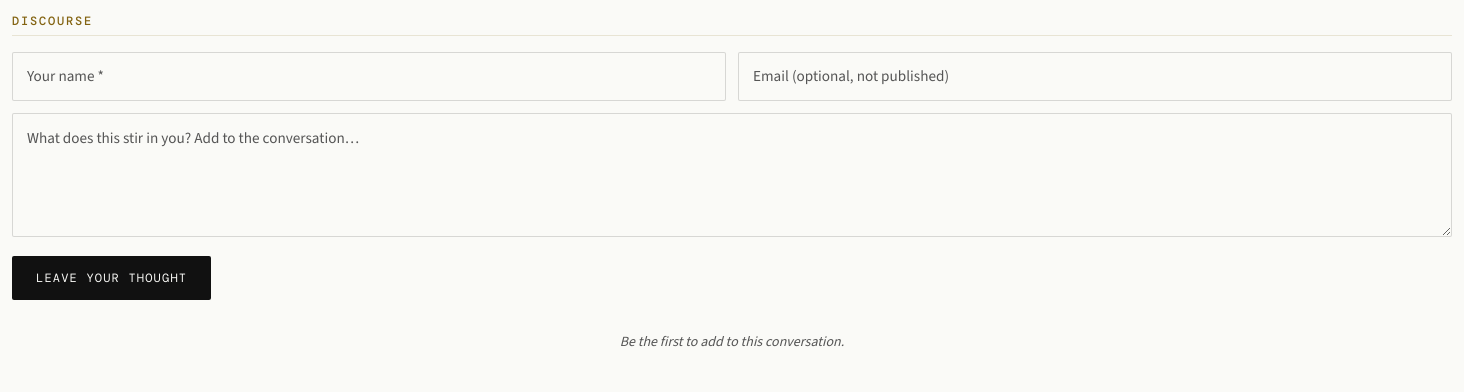
Test: PostComments › shows the server's error and keeps the form
Type "Ada" into the field labelled "Your name *" at (369, 76), box left=12, top=52, right=726, bottom=101
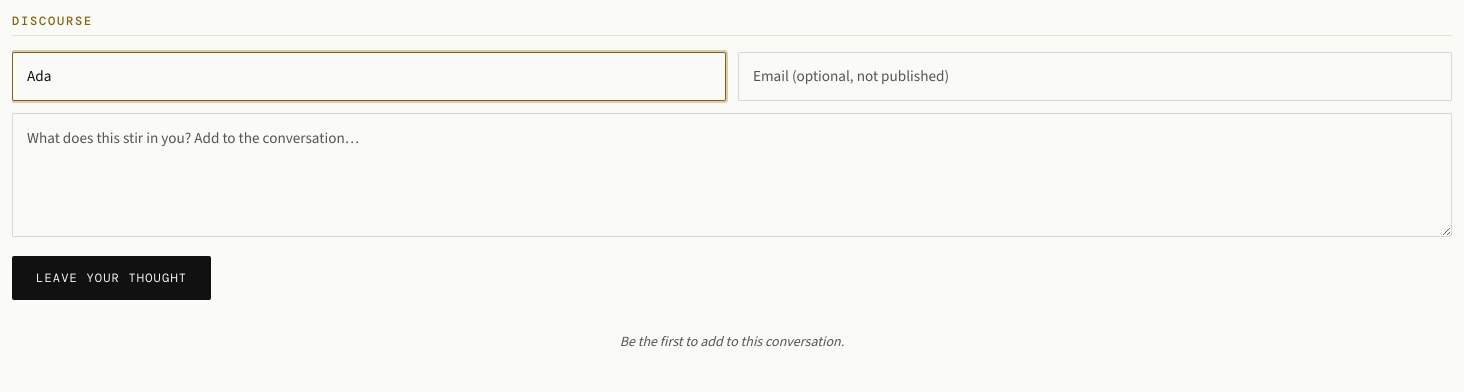
Type "Hi" into the text box named "your thought" at (732, 175), box left=12, top=113, right=1452, bottom=238
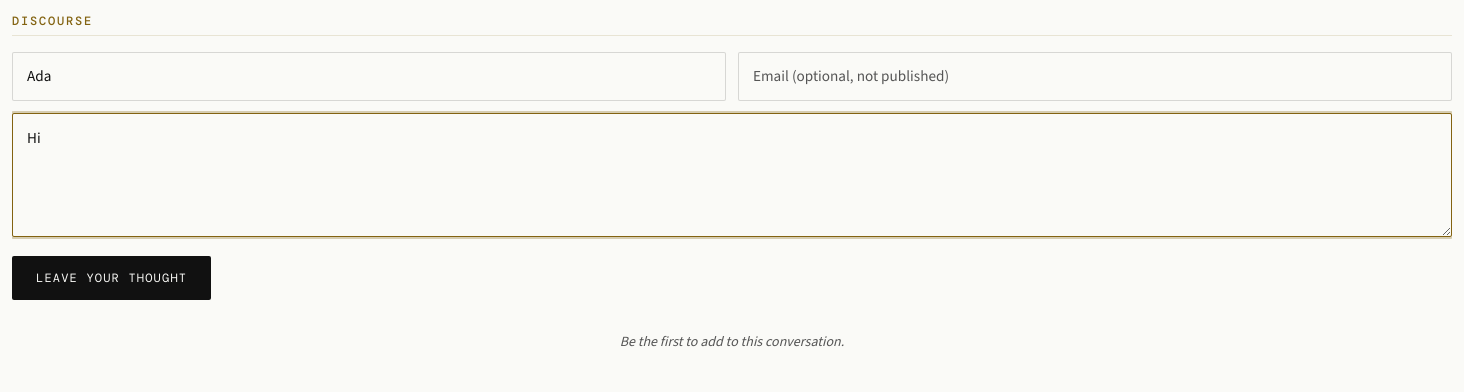
Click the button "Leave your thought" at (112, 278), box left=12, top=256, right=211, bottom=300
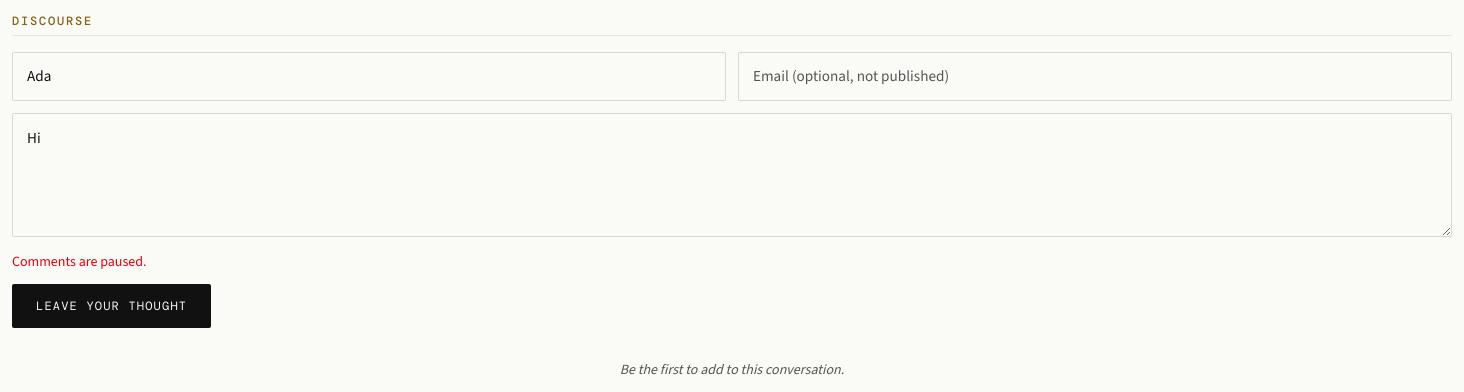
Expected: the message reads "Comments are paused.", left=12, top=252, right=146, bottom=272
